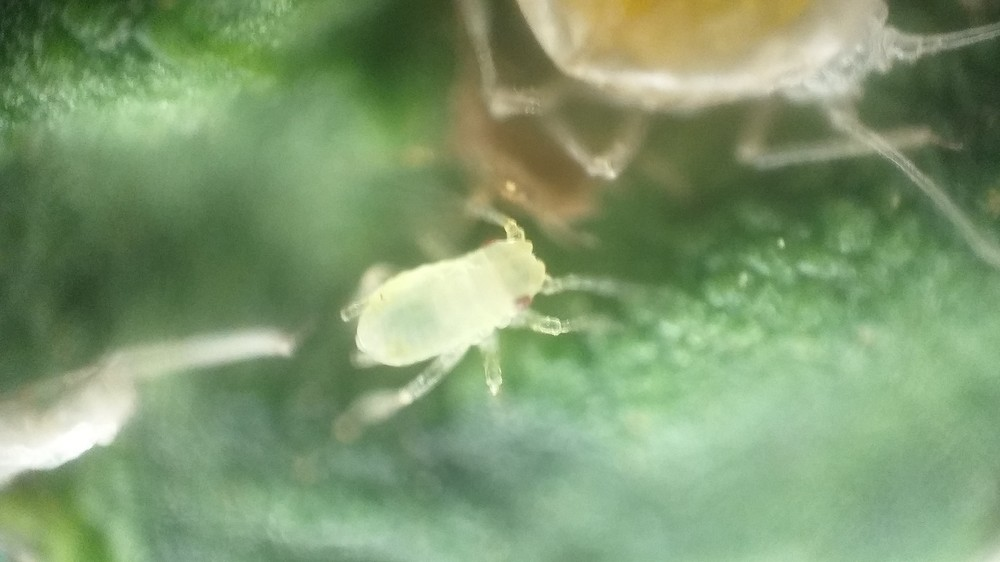Pulgon: (285, 166, 677, 434)
